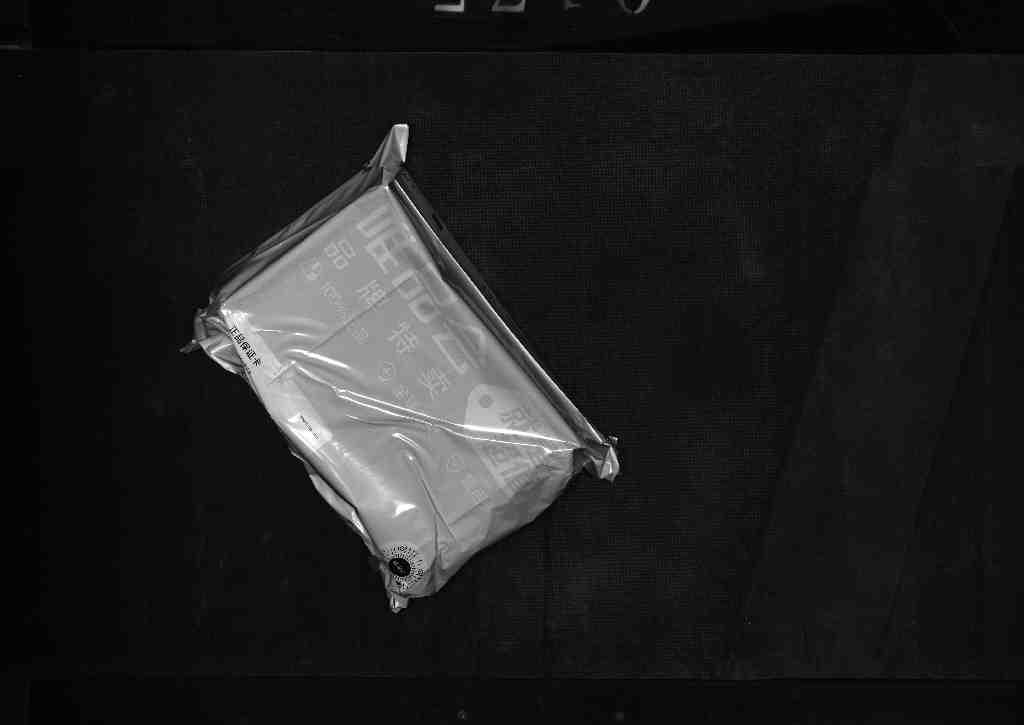box: (181, 141, 616, 613)
